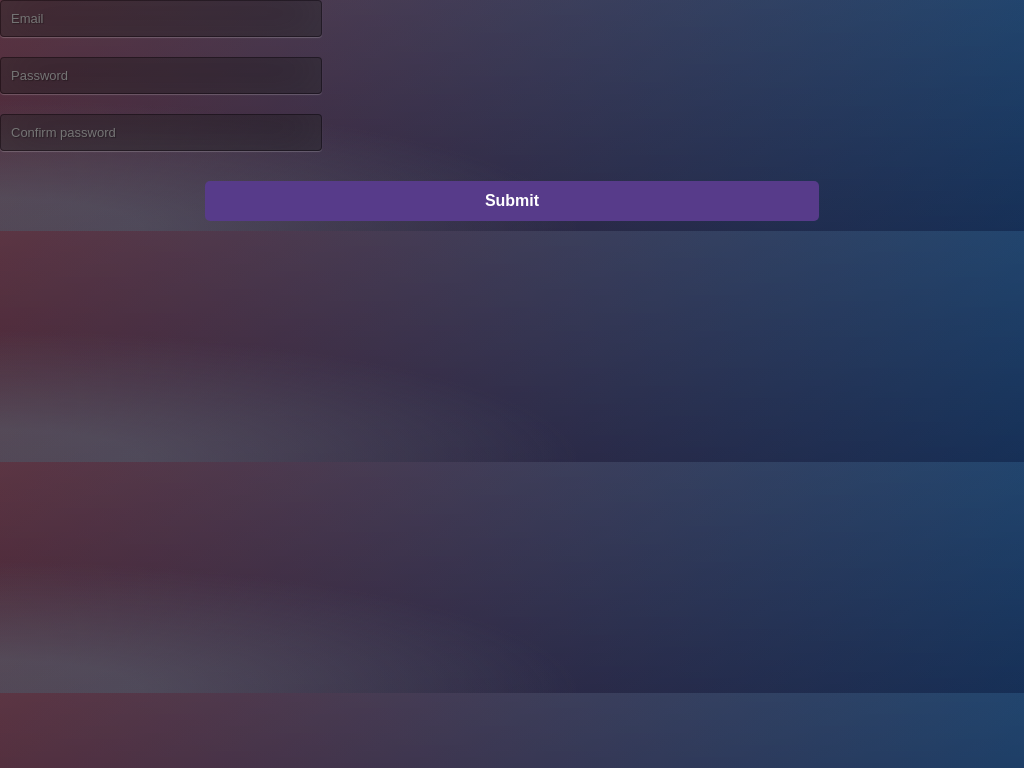
Test case: SignUpForm › should display error message if password is not equal to confirm password
Type "password" into the password field with placeholder "Password" at {"x": 161, "y": 76}, box top-left (0, 57), bottom-right (322, 94)
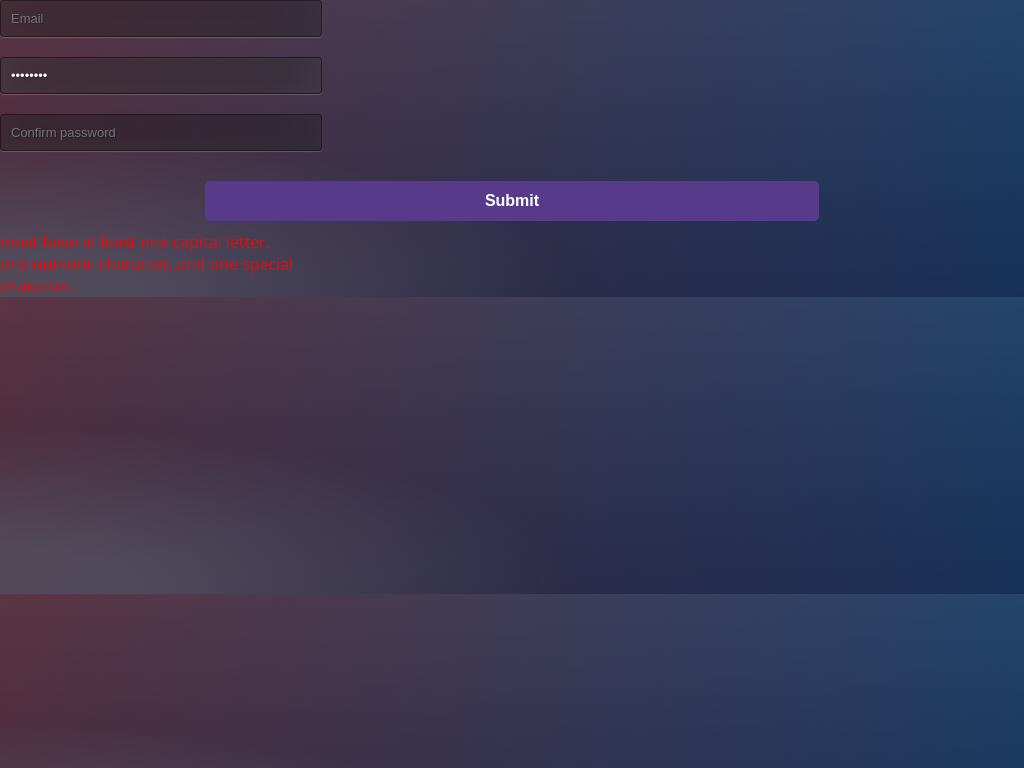
Type "password!!" into the password field with placeholder "Confirm password" at {"x": 161, "y": 132}, box top-left (0, 114), bottom-right (322, 151)
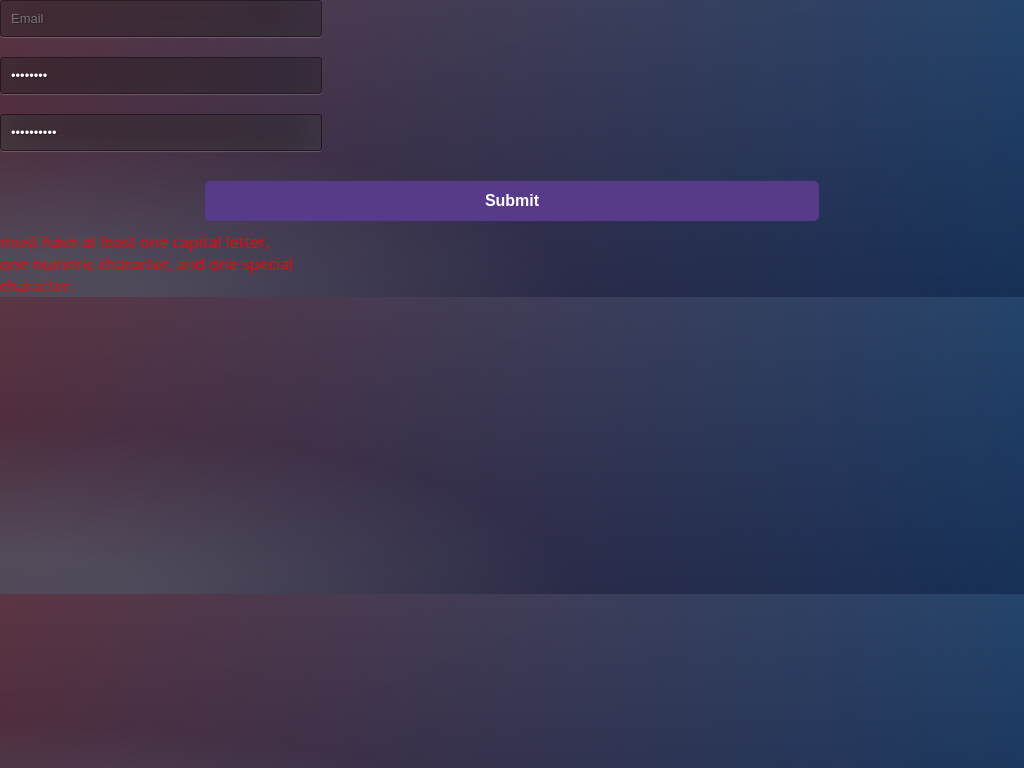
Leave the 2nd password field with placeholder "Confirm password", box top-left (0, 114), bottom-right (322, 151)
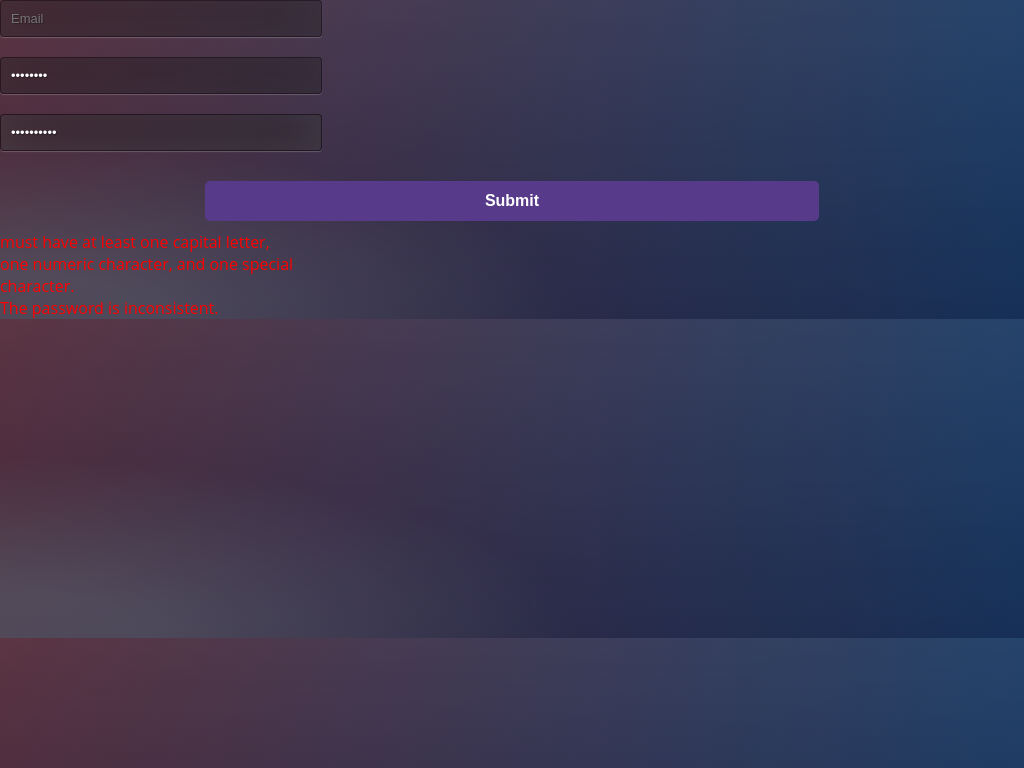
Check: the text "The password is inconsistent." is shown, box top-left (0, 297), bottom-right (218, 319)
